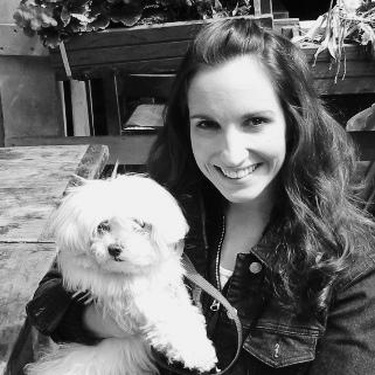dog: (12, 160, 225, 371)
